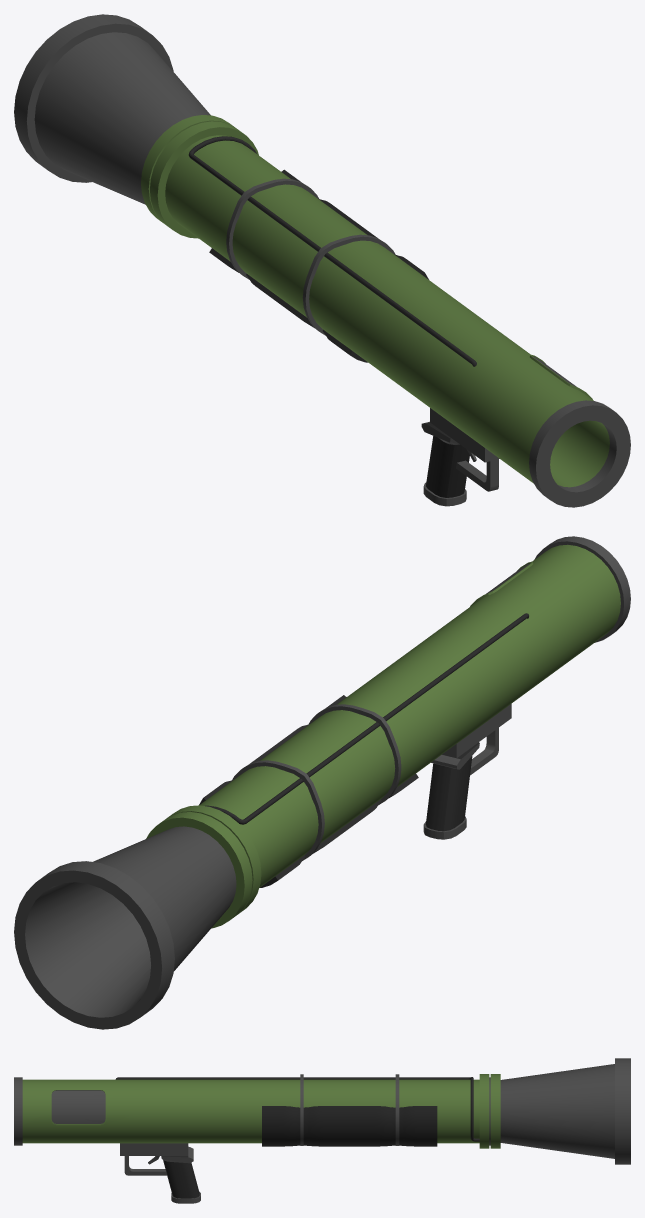
Rendered from RocketLauncher1.glb.
3 views of the same model, one above another, from view 1: azimuth 30°, elevation 25°; view 2: azimuth 150°, elevation 25°; view 3: azimuth 270°, elevation 25° (orthographic). The views are drawn at different scales.
Visible parts, largest first — view 1: Cylinder.004; view 2: Cylinder.004; view 3: Cylinder.004.
Boxes of the visible parts, left/top/right/bottom form: Cylinder.004: left=14, top=14, right=630, bottom=507; Cylinder.004: left=14, top=536, right=630, bottom=1029; Cylinder.004: left=14, top=1058, right=630, bottom=1203.
Bounding box in the file's own units: 0.8258 × 1.16 × 4.78.
